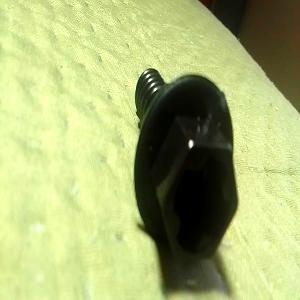parafuso: (134, 66, 239, 264)
